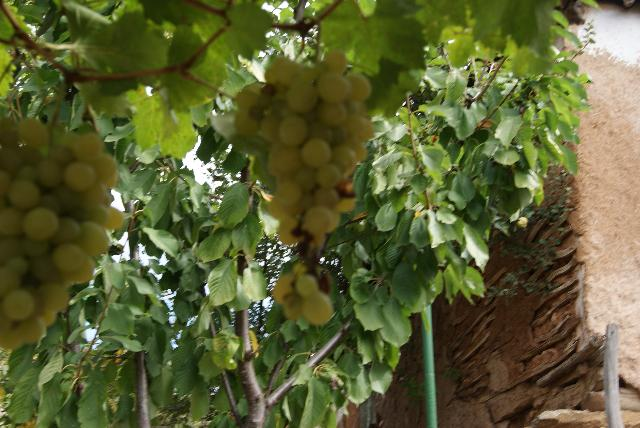grapes: (234, 50, 374, 325), (0, 118, 124, 349)
